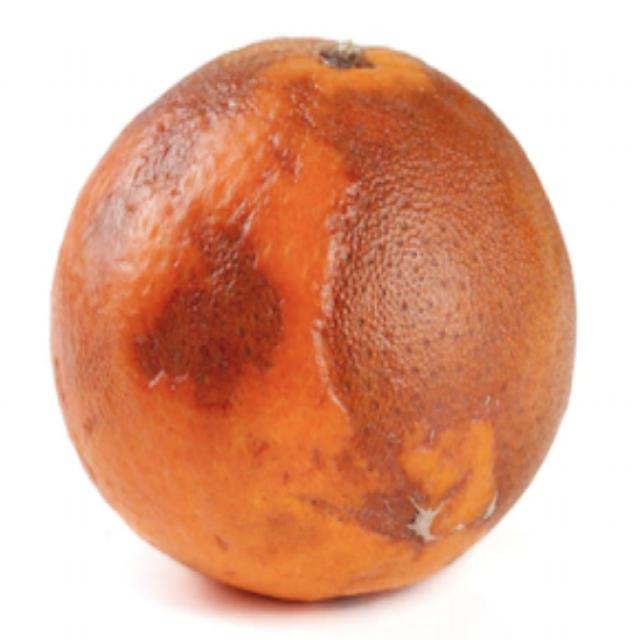rotten-orange: (52, 36, 580, 615)
